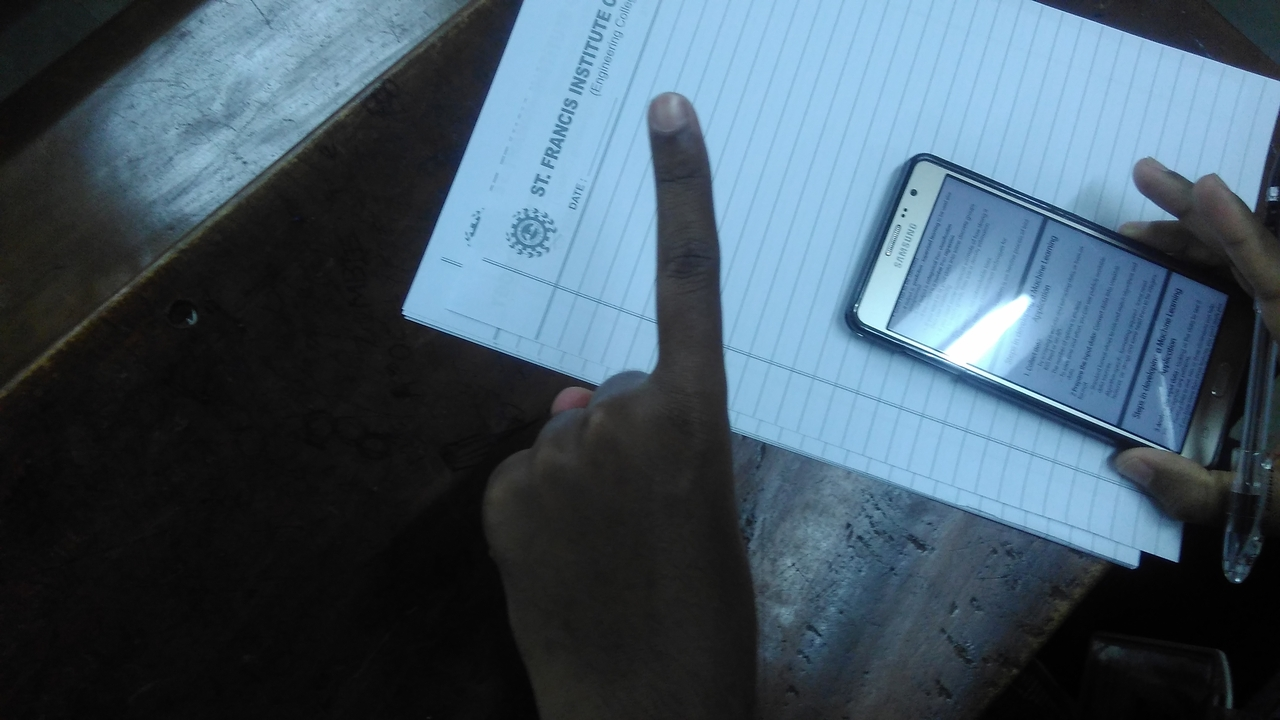fingertip: (644, 86, 708, 146)
